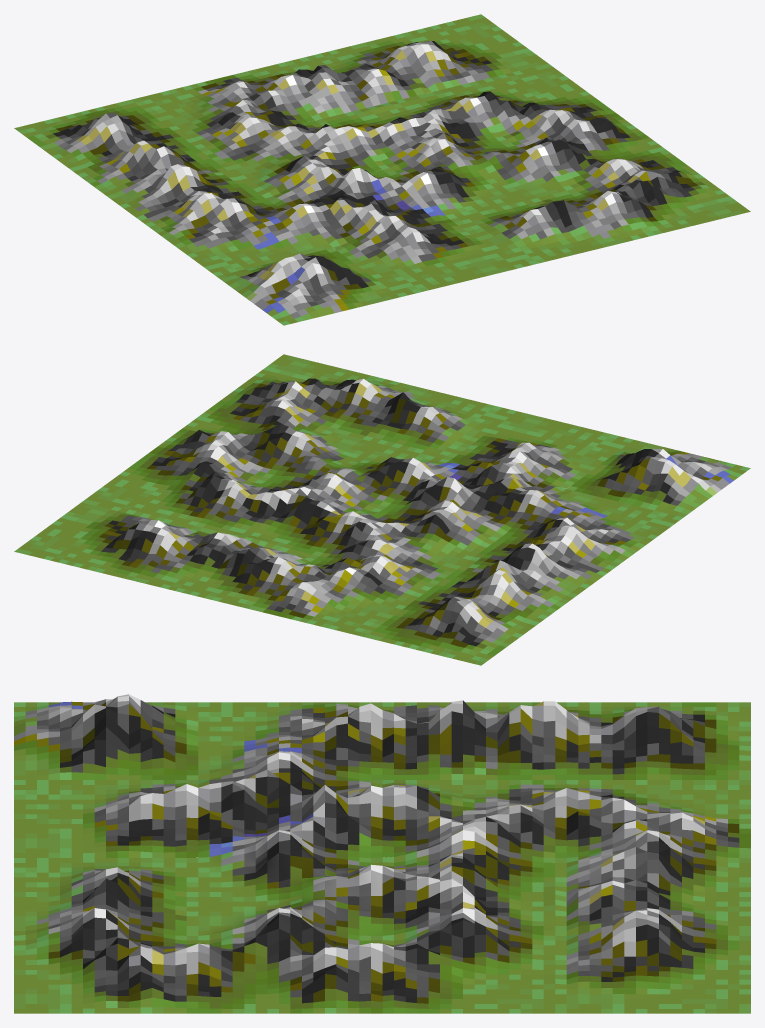
Rendered from mountains.glb.
3 renders of one model, top to bottom at view 1: azimuth 30°, elevation 25°; view 2: azimuth 150°, elevation 25°; view 3: azimuth 270°, elevation 25°, orthographic. The views are drawn at different scales.
Visible parts, largest first — view 1: mountains3, mountains11, mountains1, mountains2, mountains7, mountains9, mountains15, mountains5, mountains0, mountains10, mountains6, mountains13 (+4 smaller); view 2: mountains6, mountains4, mountains14, mountains2, mountains7, mountains12, mountains10, mountains5, mountains15, mountains0, mountains3, mountains8 (+4 smaller); view 3: mountains8, mountains9, mountains13, mountains12, mountains0, mountains11, mountains14, mountains15, mountains5, mountains4, mountains1, mountains10 (+4 smaller).
Boxes of the visible parts, <box> form: mountains3: <box>149,193,332,276</box>; mountains11: <box>383,138,566,218</box>; mountains1: <box>333,216,516,297</box>; mountains2: <box>450,191,633,268</box>; mountains7: <box>198,117,381,198</box>; mountains9: <box>567,159,750,239</box>; mountains15: <box>266,166,449,247</box>; mountains5: <box>82,140,265,226</box>; mountains0: <box>216,248,399,325</box>; mountains10: <box>248,42,431,120</box>; mountains6: <box>131,71,314,148</box>; mountains13: <box>499,109,682,190</box>; mountains6: <box>248,556,431,637</box>; mountains4: <box>365,584,548,665</box>; mountains14: <box>198,478,381,558</box>; mountains2: <box>333,382,516,460</box>; mountains7: <box>315,506,498,587</box>; mountains12: <box>82,449,265,530</box>; mountains10: <box>131,530,314,608</box>; mountains5: <box>432,535,615,616</box>; mountains15: <box>383,457,566,538</box>; mountains0: <box>567,440,750,517</box>; mountains3: <box>499,489,682,566</box>; mountains8: <box>14,502,197,579</box>; mountains8: <box>566,908,750,1013</box>; mountains9: <box>14,908,198,1013</box>; mountains13: <box>198,908,382,1013</box>; mountains12: <box>382,908,566,1013</box>; mountains0: <box>14,694,198,779</box>; mountains11: <box>198,830,382,935</box>; mountains14: <box>382,830,566,935</box>; mountains15: <box>198,752,382,857</box>; mountains5: <box>382,700,566,779</box>; mountains4: <box>566,702,750,779</box>; mountains1: <box>14,780,198,857</box>; mountains10: <box>566,830,750,935</box>.
Bounding box in the file's own units: 4 × 0.2352 × 4.
Materials: 1 (1 with a texture image).
